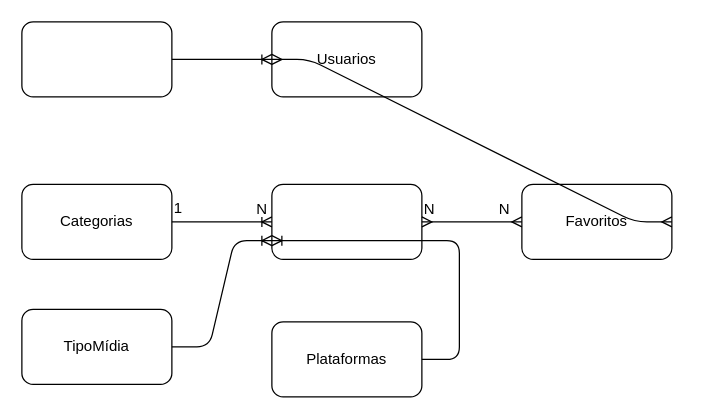
Some shapes in this 705 by 419 pixel diagram are drawn without their labels. The box of each missing label's shape, as (x1, y1, x2, y2) in pixels:
Mídias: (271, 183, 422, 259)
TipoUsuario: (21, 21, 172, 97)
